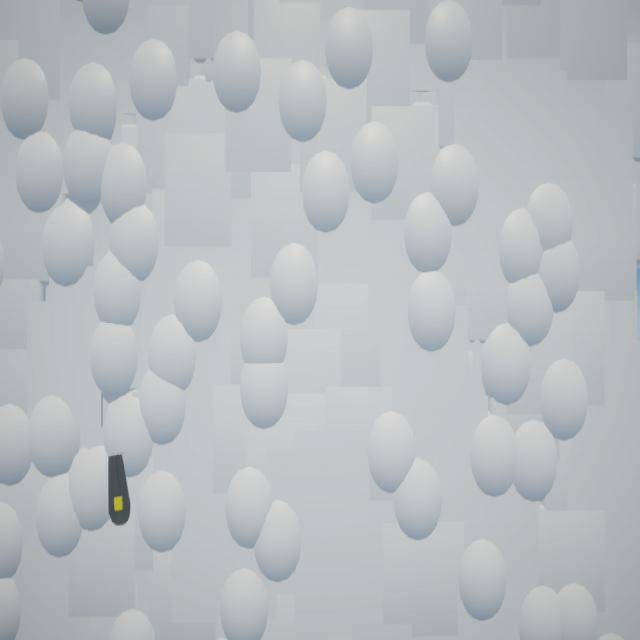handle_folk: (109, 455, 132, 527)
